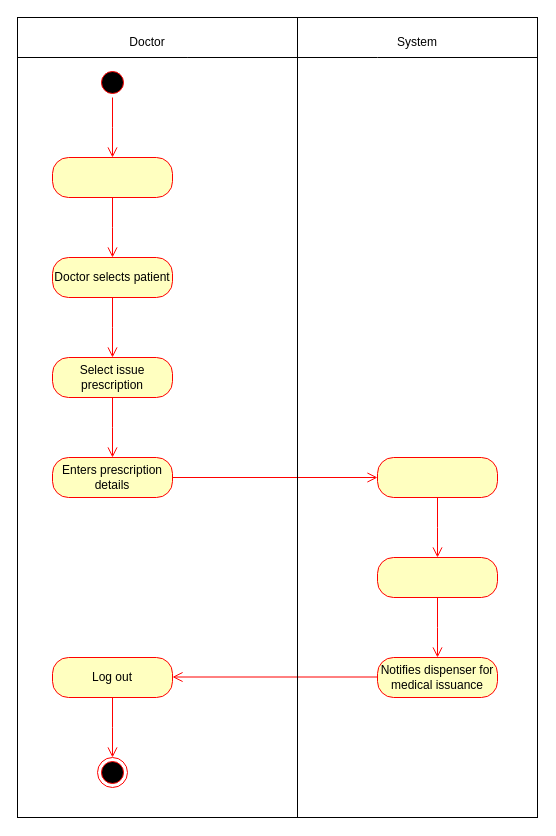
The diagram is 556 pixels wide and 836 high, and some of its shapes have lost their labels. The centre of each missing label's shape, as x and y in pixels:
Doctor logs into the system: the point at 112,177
Save prescription: the point at 437,577
Validate prescription details: the point at 437,477
